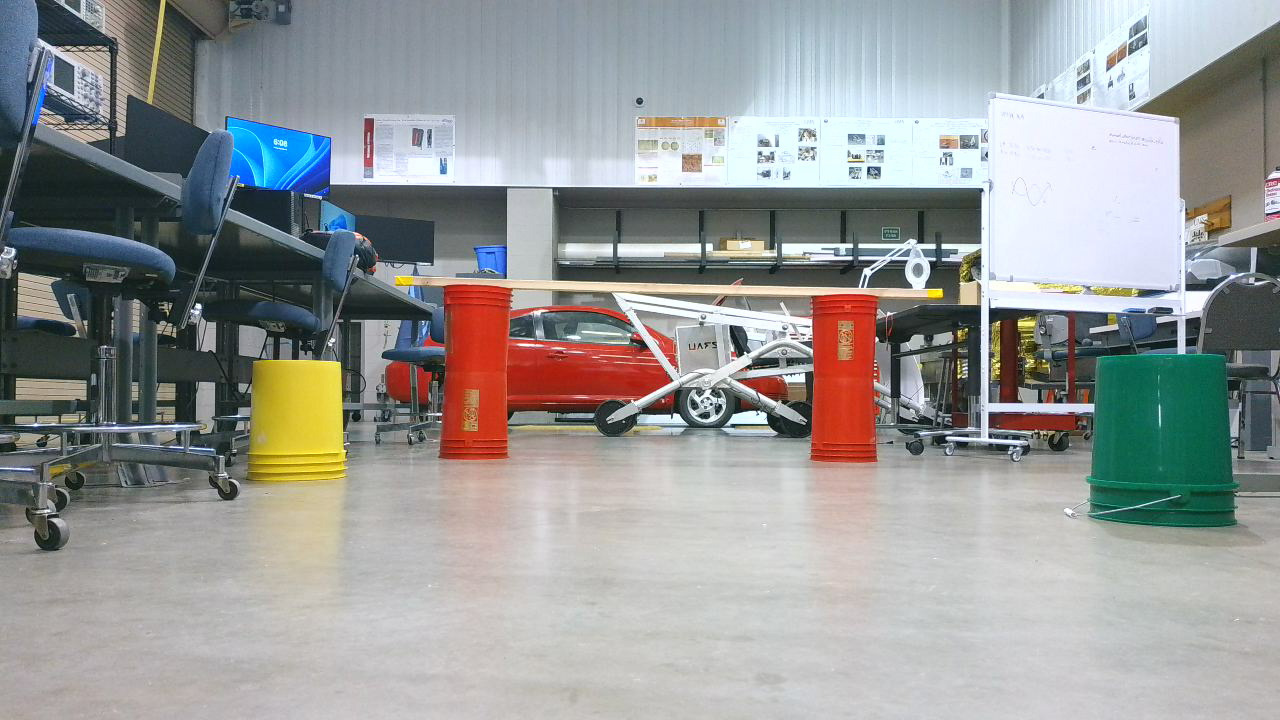green_bucket_barrier: (1085, 354, 1251, 535)
red_bucket_arch: (439, 278, 891, 475)
yellow_bucket: (243, 358, 359, 486)
